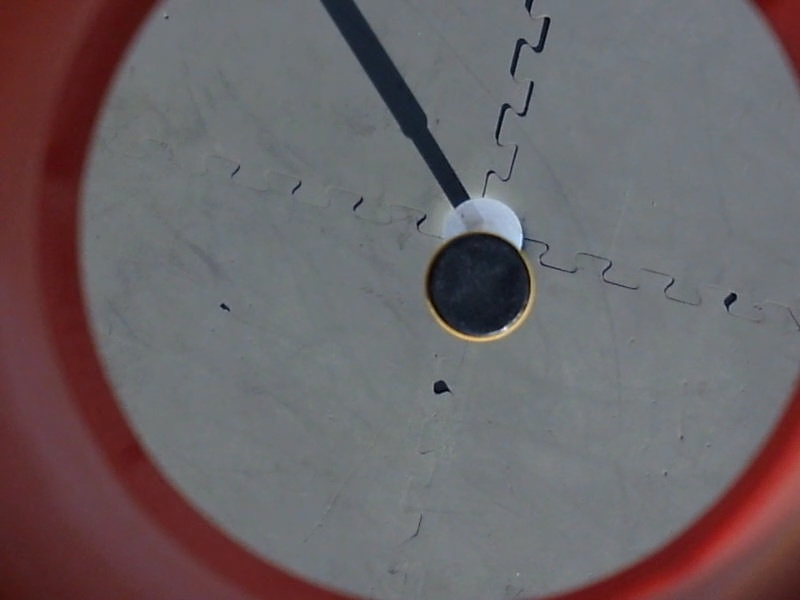tip: (423, 225, 543, 346)
